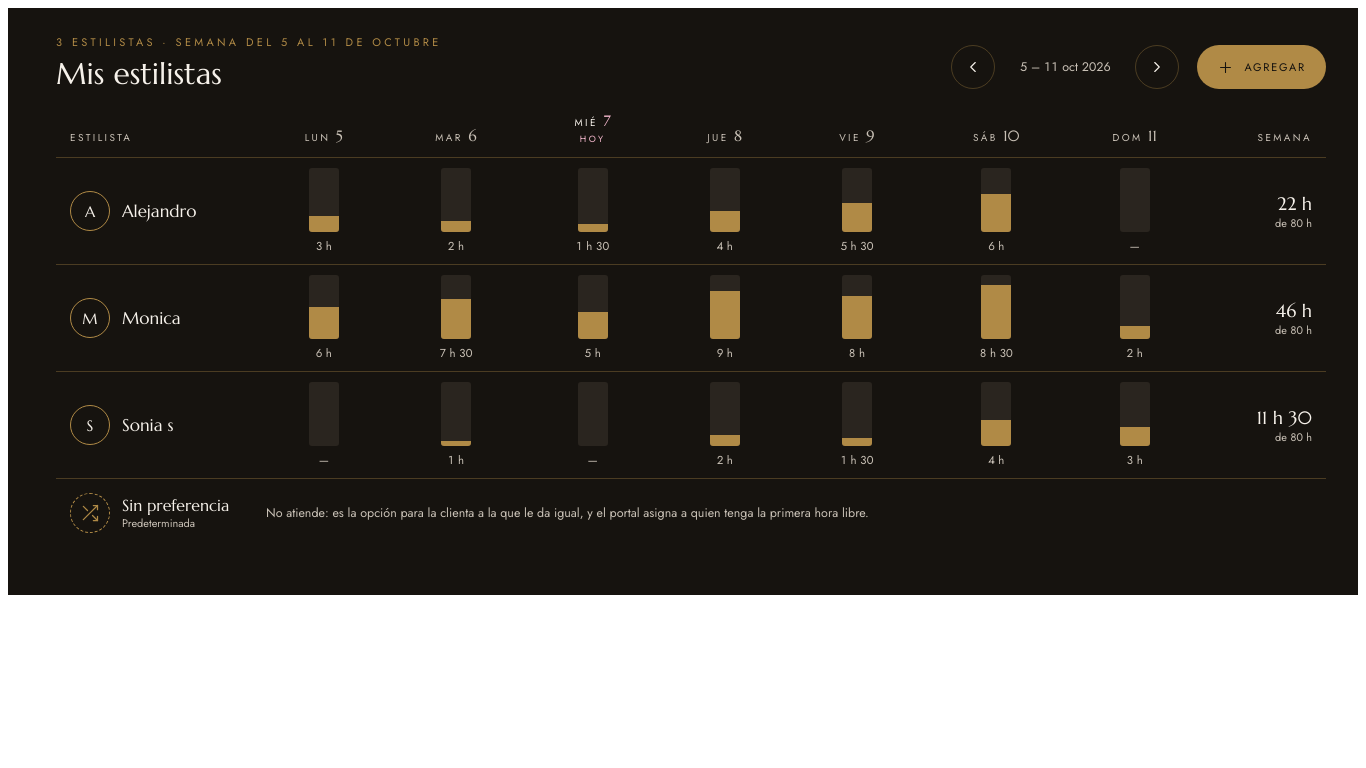
Scenario: WorkersPage · la semana › pide la semana de hoy y las flechas van de lunes en lunes
Click the button with test id "semana-siguiente" at (1157, 67), box [1135,45,1179,89]
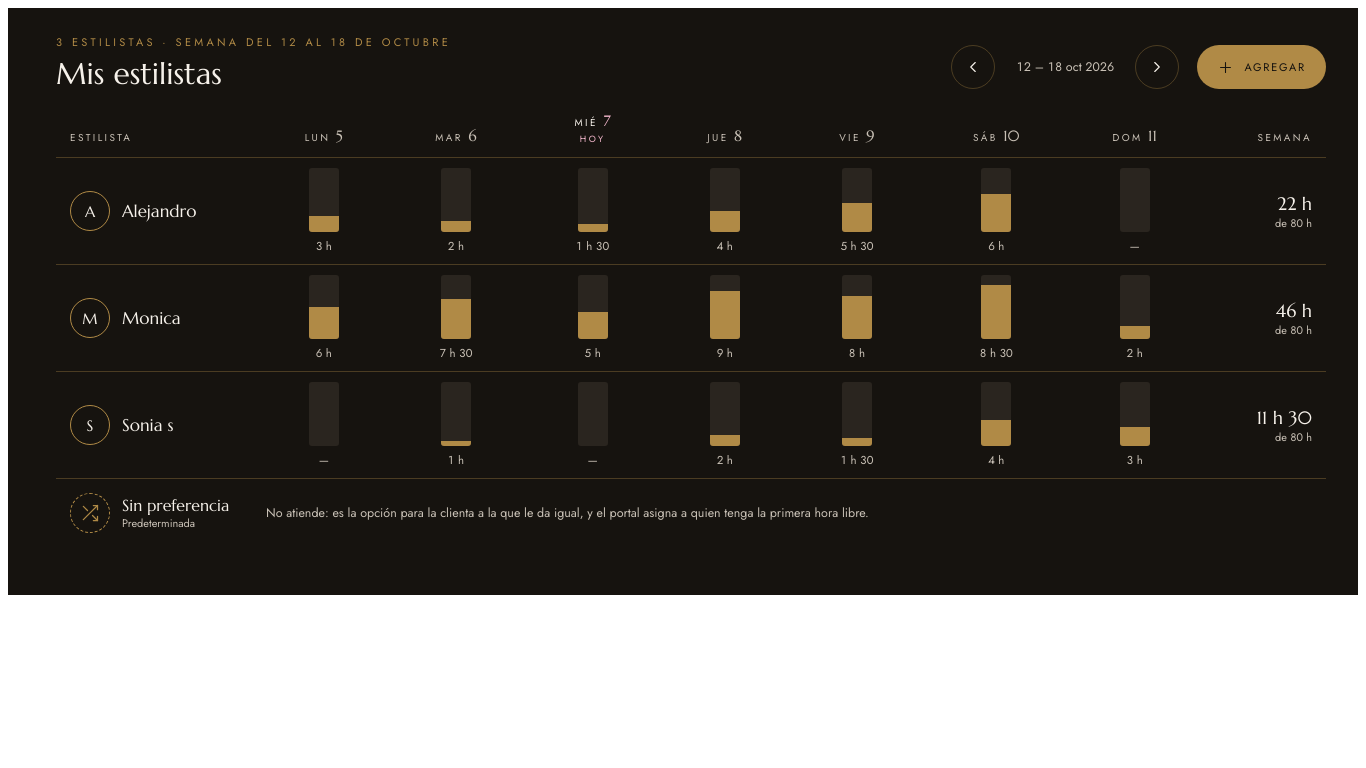
Click the button with test id "semana-anterior" at (973, 67), box [951,45,995,89]
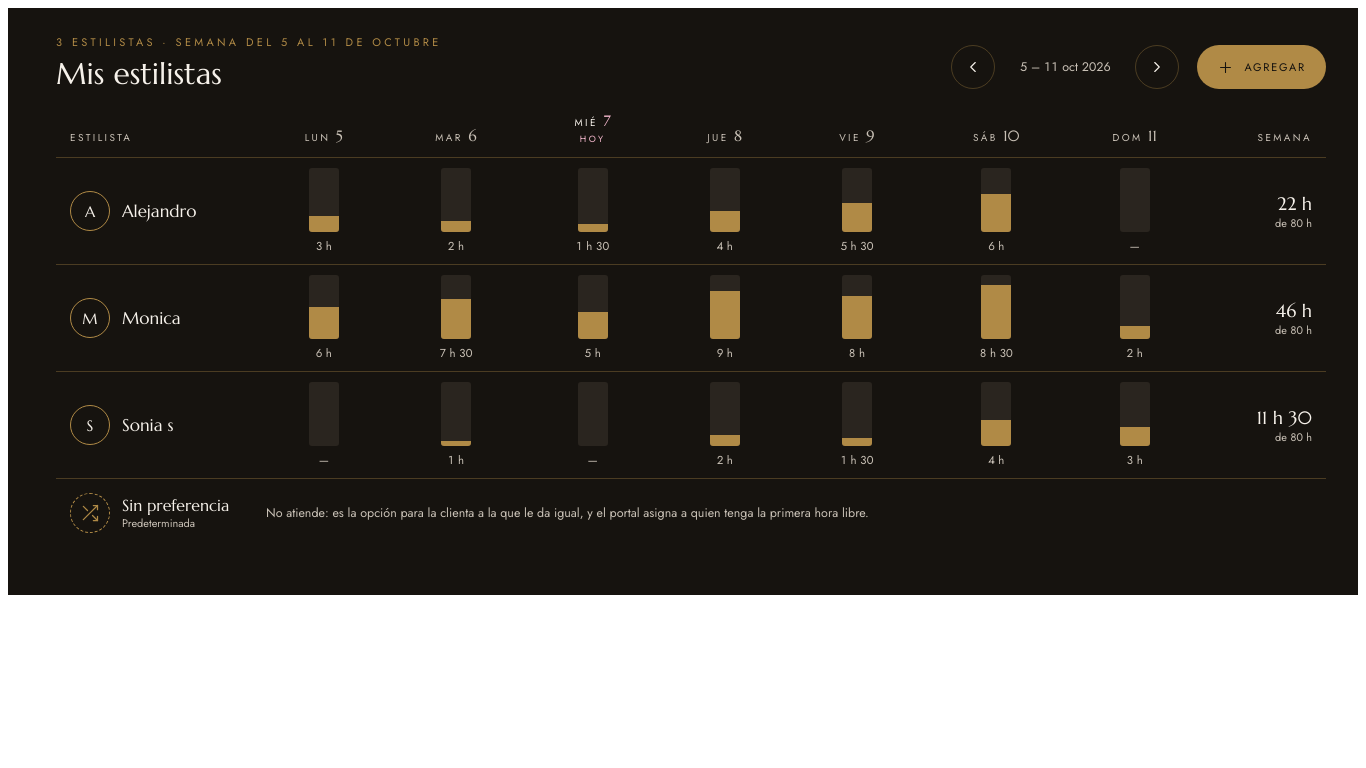
Click the button with test id "semana-anterior" at (973, 67), box [951,45,995,89]
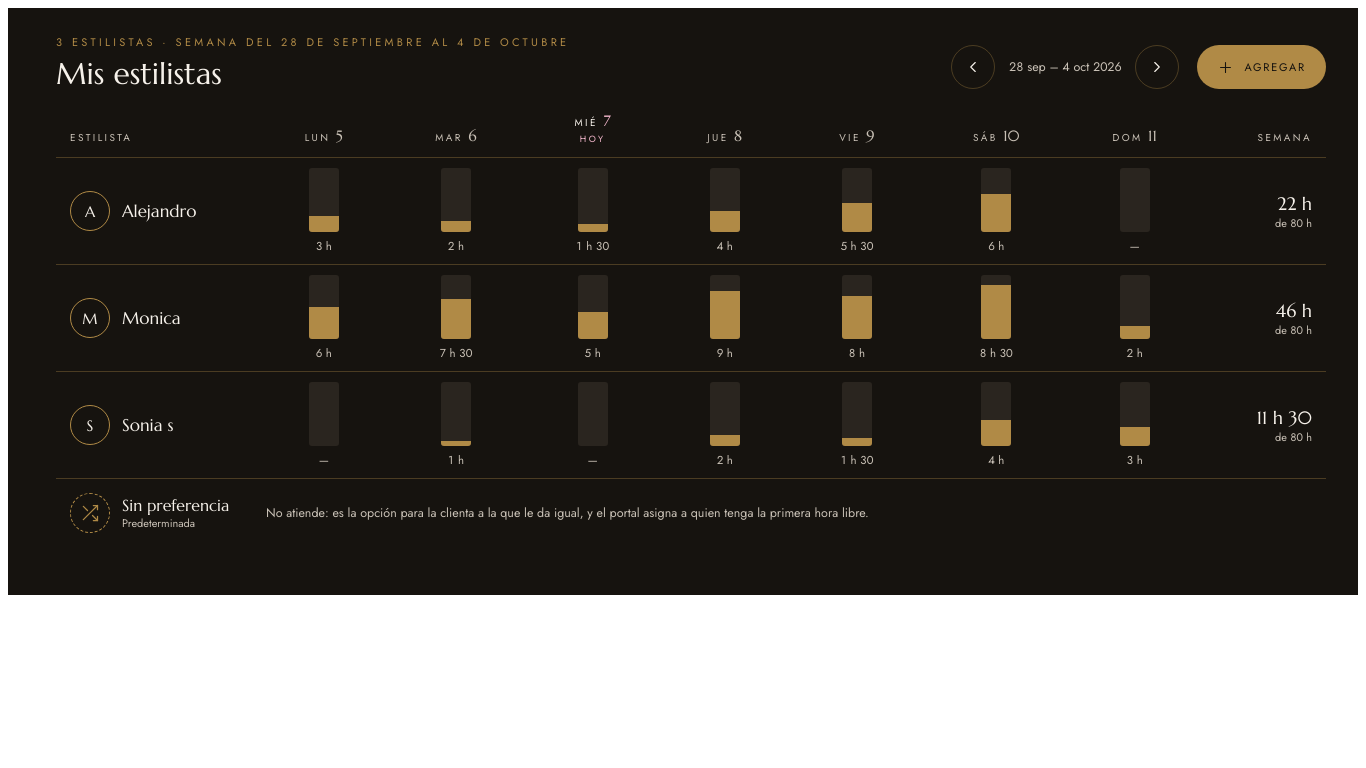
Expected: the text with test id "rotulo-semana" reads "28 sep – 4 oct 2026", [1009,58,1122,76]
